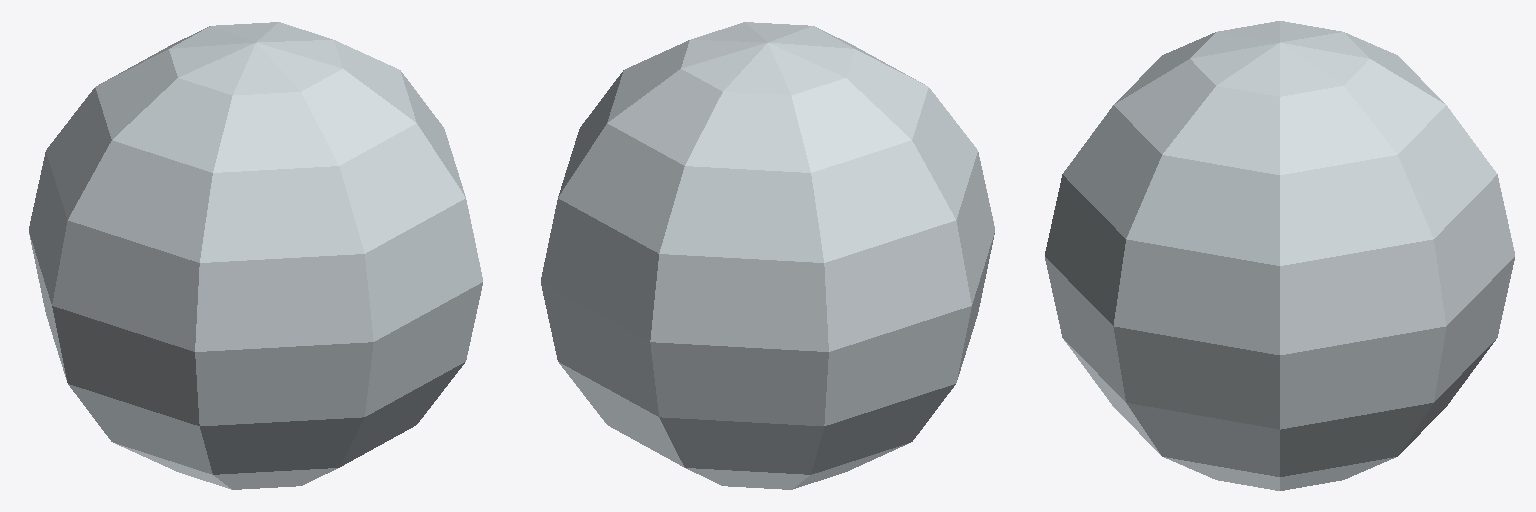
3 renders of one model, left to right at view 1: azimuth 30°, elevation 25°; view 2: azimuth 150°, elevation 25°; view 3: azimuth 270°, elevation 25°, orthographic.
Parts seen in each view (by area): view 1: sphere; view 2: sphere; view 3: sphere.
Boxes of the visible parts, x1,y1,x2,y2 form: sphere: [29, 22, 482, 489]; sphere: [541, 22, 994, 489]; sphere: [1045, 21, 1514, 490].
Size of the model in its own units: 2 by 2 by 2.
1 materials, 1 textured.